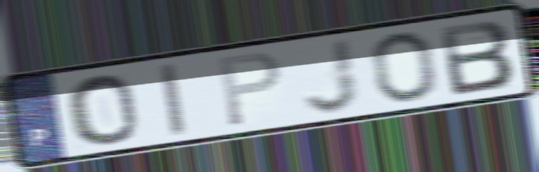B: (436, 17, 517, 99)
I: (157, 60, 189, 139)
J: (300, 36, 363, 116)
O: (63, 72, 143, 146), (368, 30, 440, 104)
P: (216, 49, 285, 130)
